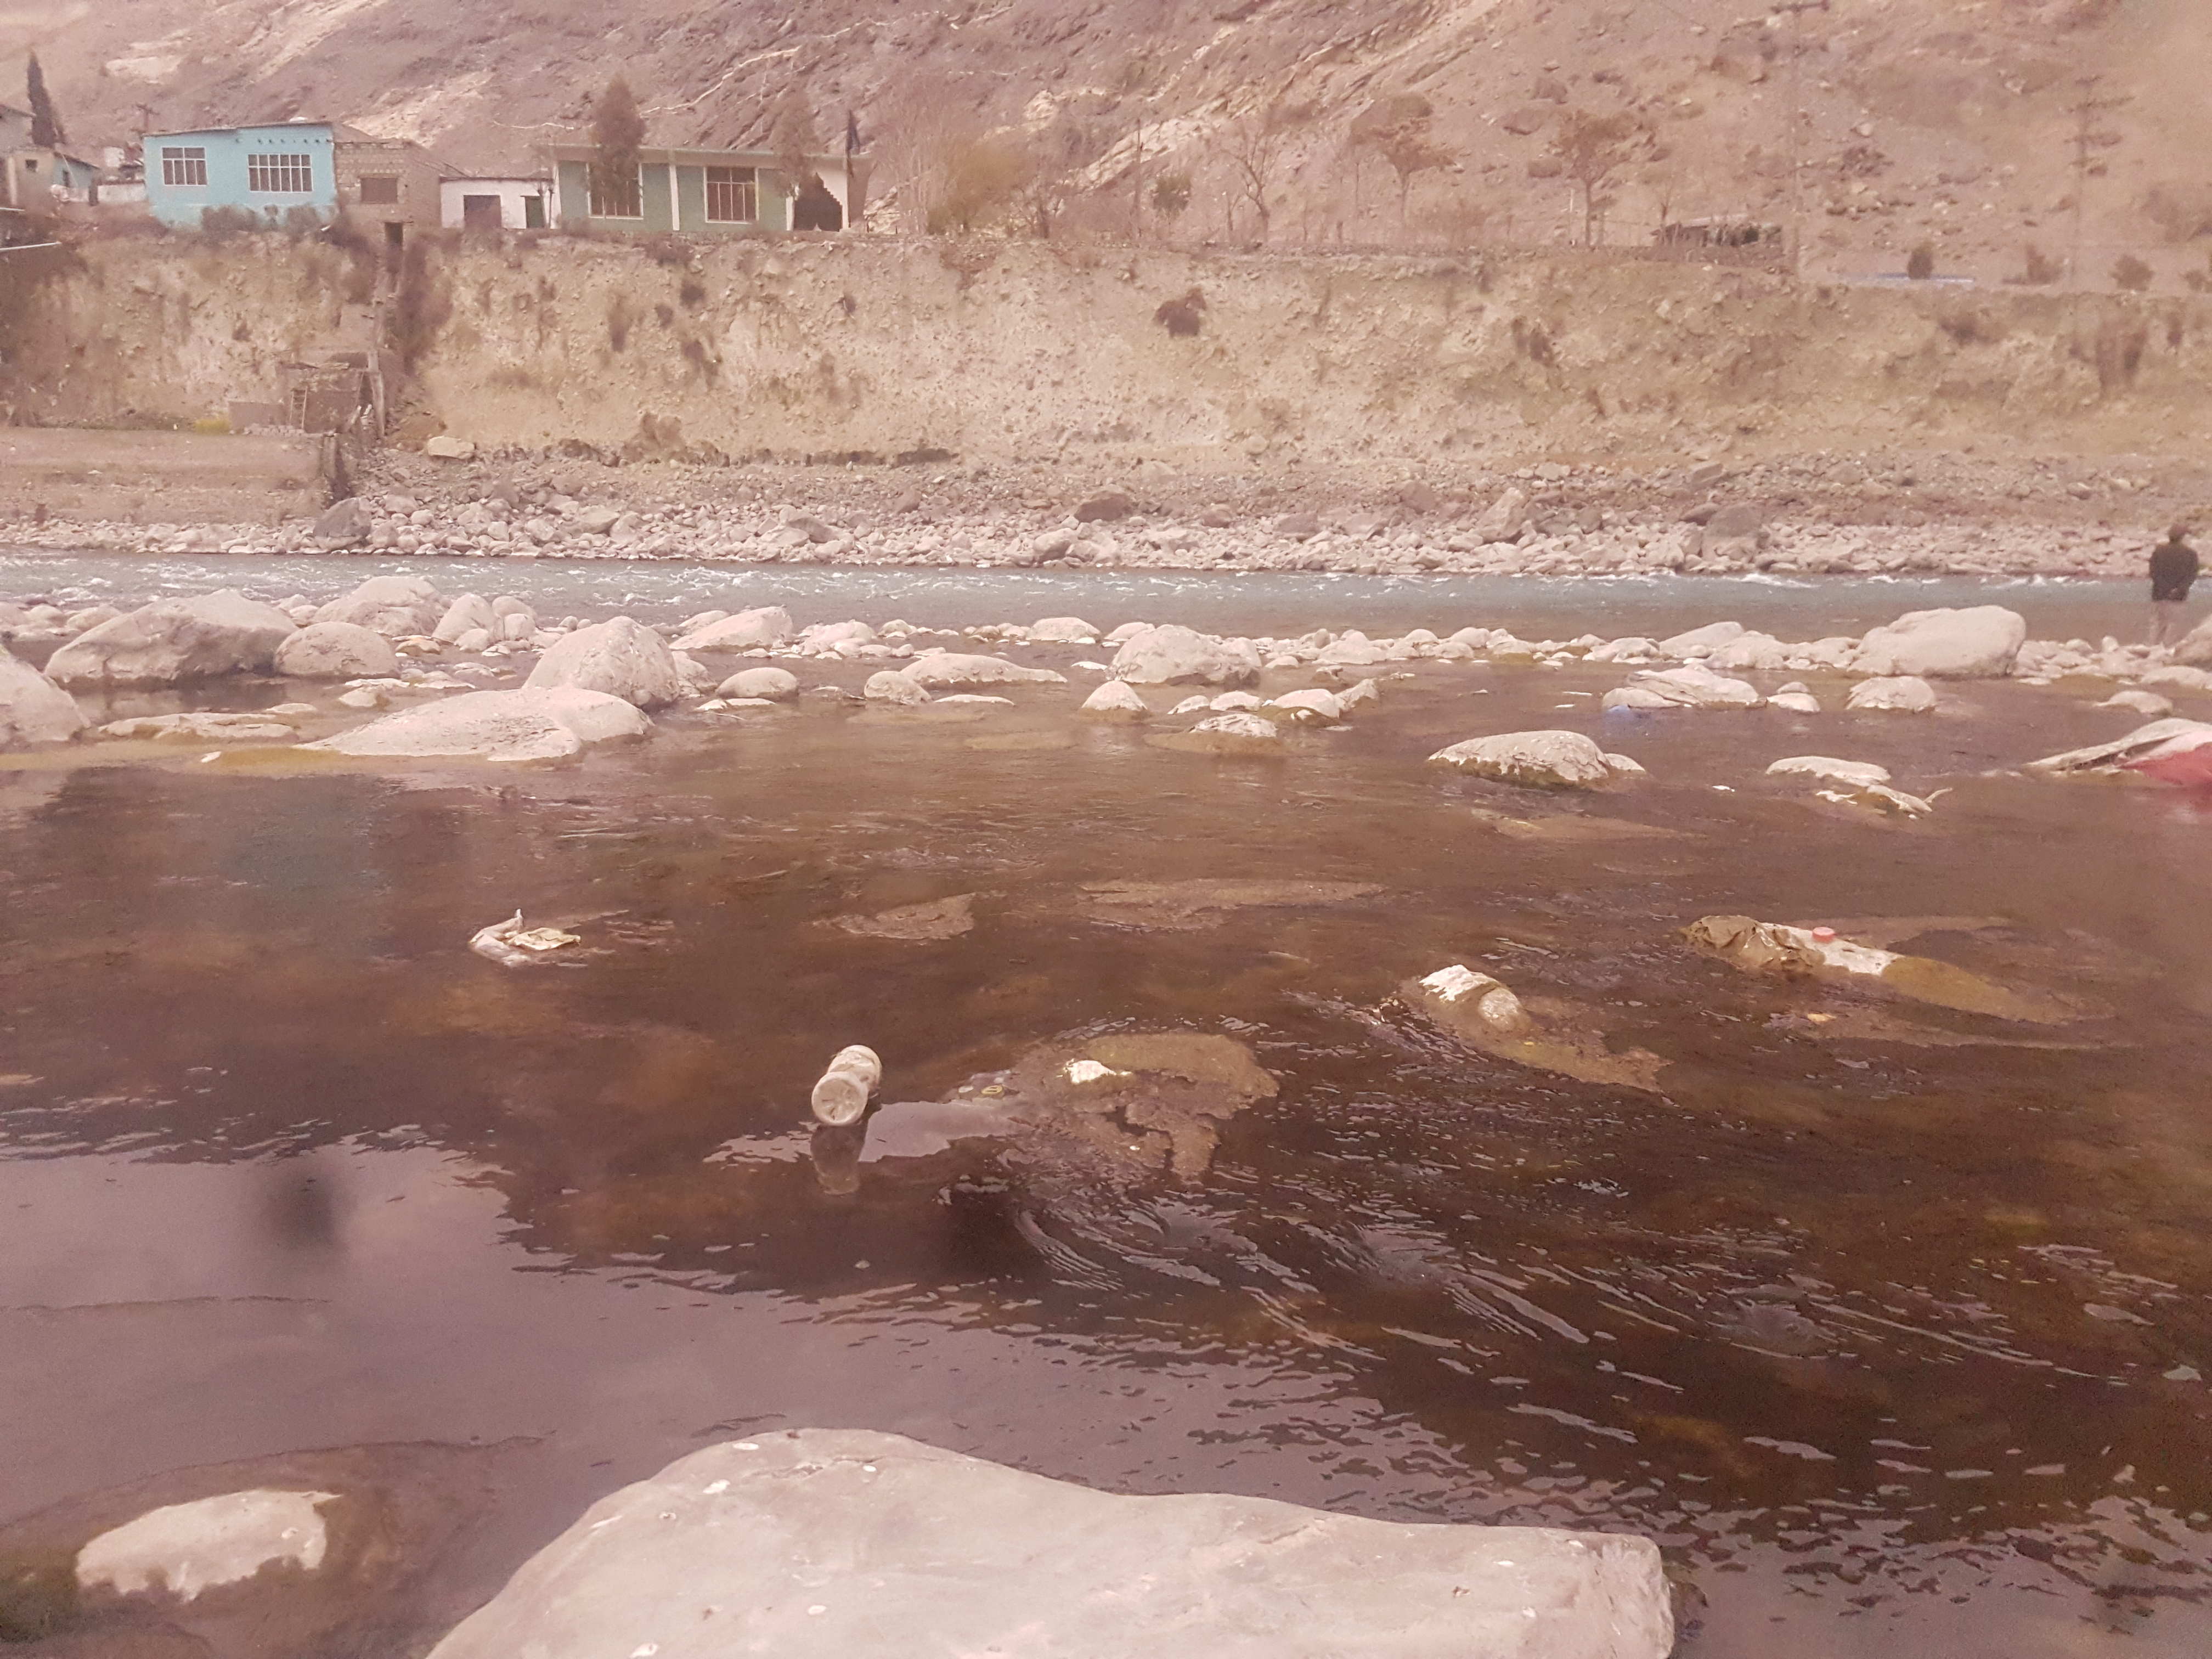Plastic Bottle: (810, 1044, 881, 1126), (1608, 704, 1630, 713)
